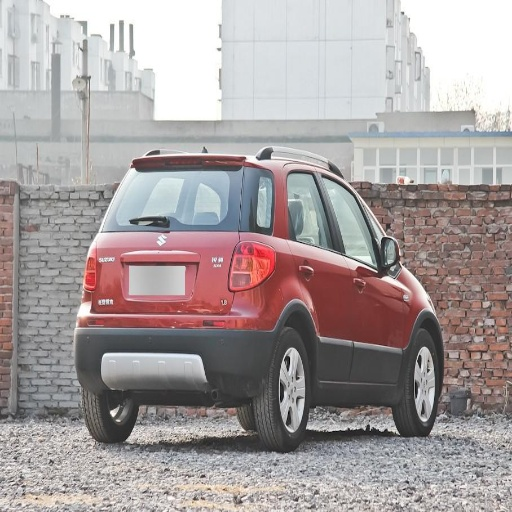back_bumper: (78, 288, 280, 404)
back_right_door: (284, 164, 354, 386)
trunk: (88, 230, 240, 333)
